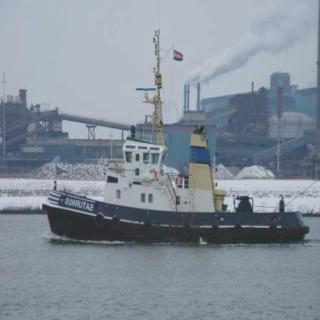Tug Boat: (45, 72, 316, 239)
